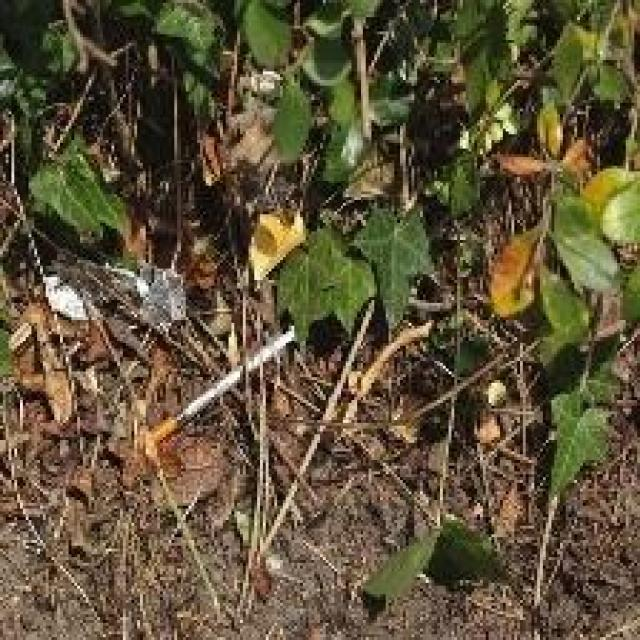syringe: (132, 306, 334, 454)
